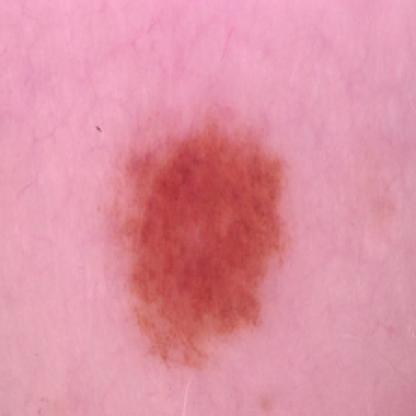benign: (113, 134, 284, 349)
